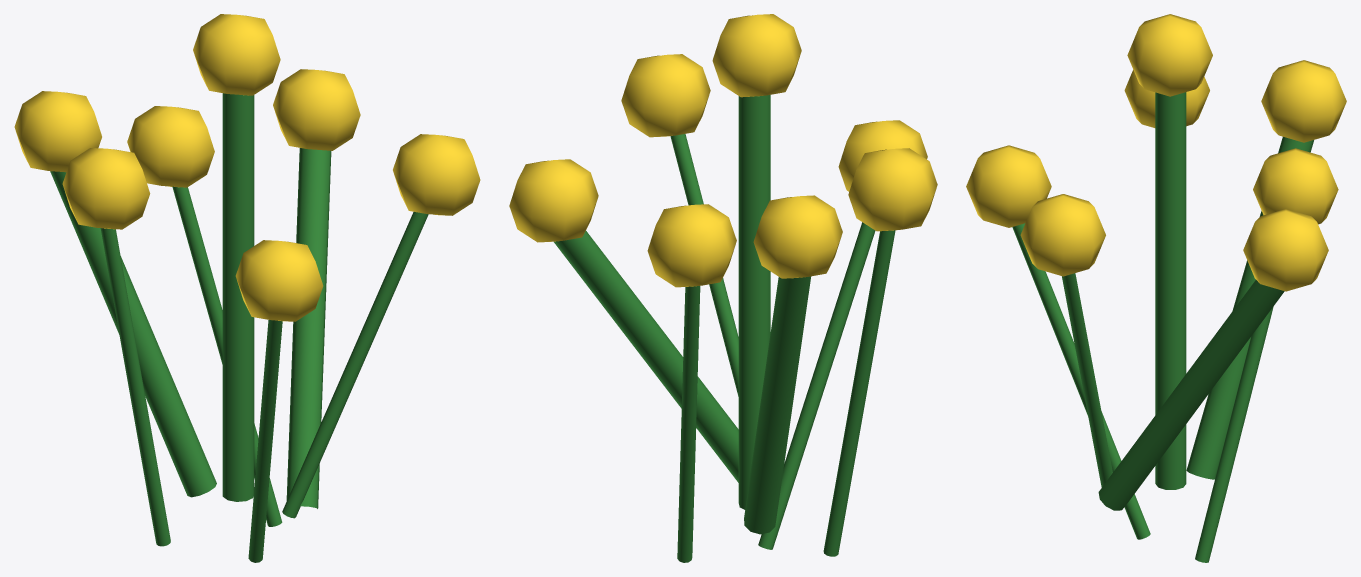
The model's file is plant-01.glb.
3 renders of one model, left to right at view 1: azimuth 30°, elevation 25°; view 2: azimuth 150°, elevation 25°; view 3: azimuth 270°, elevation 25°, orthographic. The views are drawn at different scales.
Parts seen in each view (by area): view 1: plant 01; view 2: plant 01; view 3: plant 01.
Boxes of the visible parts, x1=… form: plant 01: x1=14, y1=14, x2=480, y2=562; plant 01: x1=509, y1=14, x2=937, y2=562; plant 01: x1=966, y1=14, x2=1346, y2=562.
Bounding box in the file's own units: 0.4757 × 0.6908 × 0.4585.
Materials: 1 (1 with a texture image).
